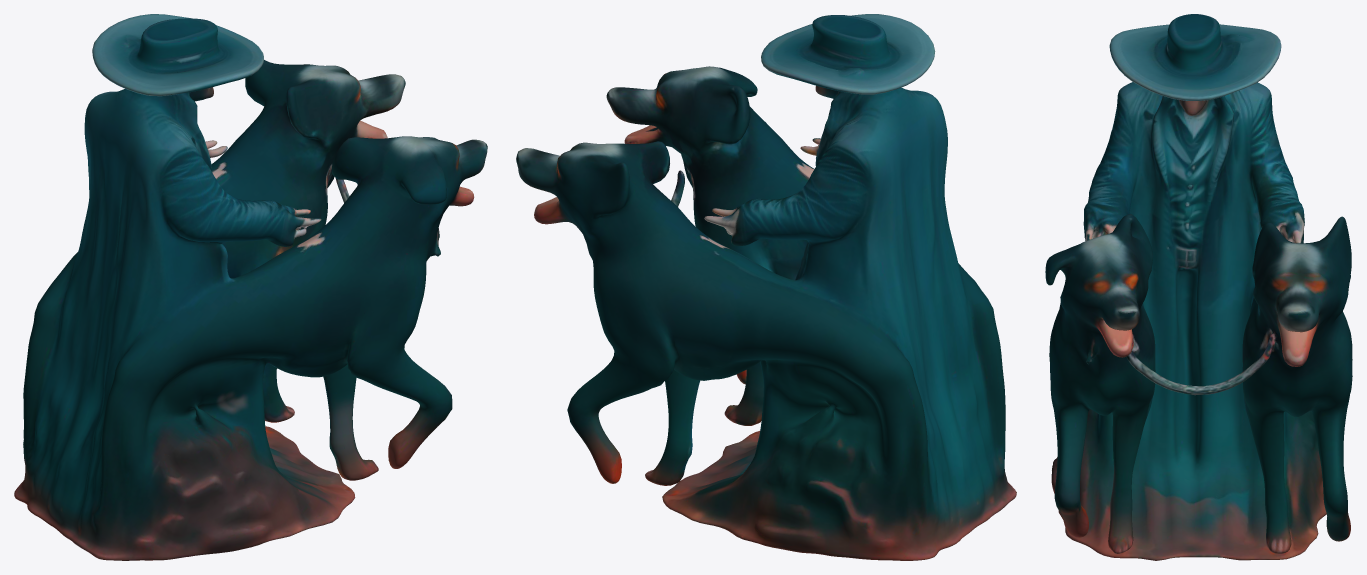
Rendered from Sombreron1.glb.
3 renders of one model, left to right at view 1: azimuth 30°, elevation 25°; view 2: azimuth 150°, elevation 25°; view 3: azimuth 270°, elevation 25°, orthographic.
Parts seen in each view (by area): view 1: tripo_node_2da9b1e2-13b8-46f4-ae6b-c59d53f7ff44; view 2: tripo_node_2da9b1e2-13b8-46f4-ae6b-c59d53f7ff44; view 3: tripo_node_2da9b1e2-13b8-46f4-ae6b-c59d53f7ff44.
Part boxes in pixels (left/top/right/bottom): tripo_node_2da9b1e2-13b8-46f4-ae6b-c59d53f7ff44: left=14, top=14, right=487, bottom=560; tripo_node_2da9b1e2-13b8-46f4-ae6b-c59d53f7ff44: left=516, top=14, right=1016, bottom=560; tripo_node_2da9b1e2-13b8-46f4-ae6b-c59d53f7ff44: left=1045, top=14, right=1352, bottom=560.
Bounding box in the file's own units: 0.8509 × 0.9455 × 0.5635.
1 material, 1 textured.
